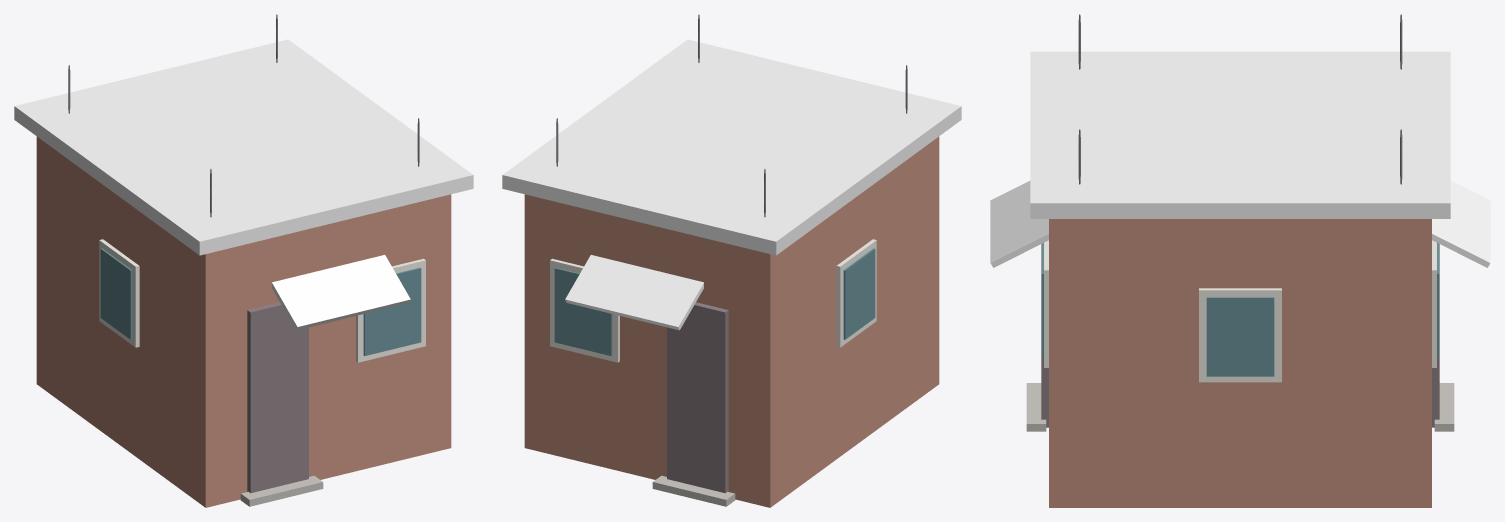
File: casa_favela.glb
3 renders of one model, left to right at view 1: azimuth 30°, elevation 25°; view 2: azimuth 150°, elevation 25°; view 3: azimuth 270°, elevation 25°, orthographic. The views are drawn at different scales.
Parts seen in each view (by area): view 1: CasaFavela; view 2: CasaFavela; view 3: CasaFavela.
Part boxes in pixels (x1,y1,x2,y2): CasaFavela: (14,14,473,507); CasaFavela: (502,14,961,507); CasaFavela: (990,14,1490,507).
Bounding box in the file's own units: 2.9 × 3.29 × 4.05.
